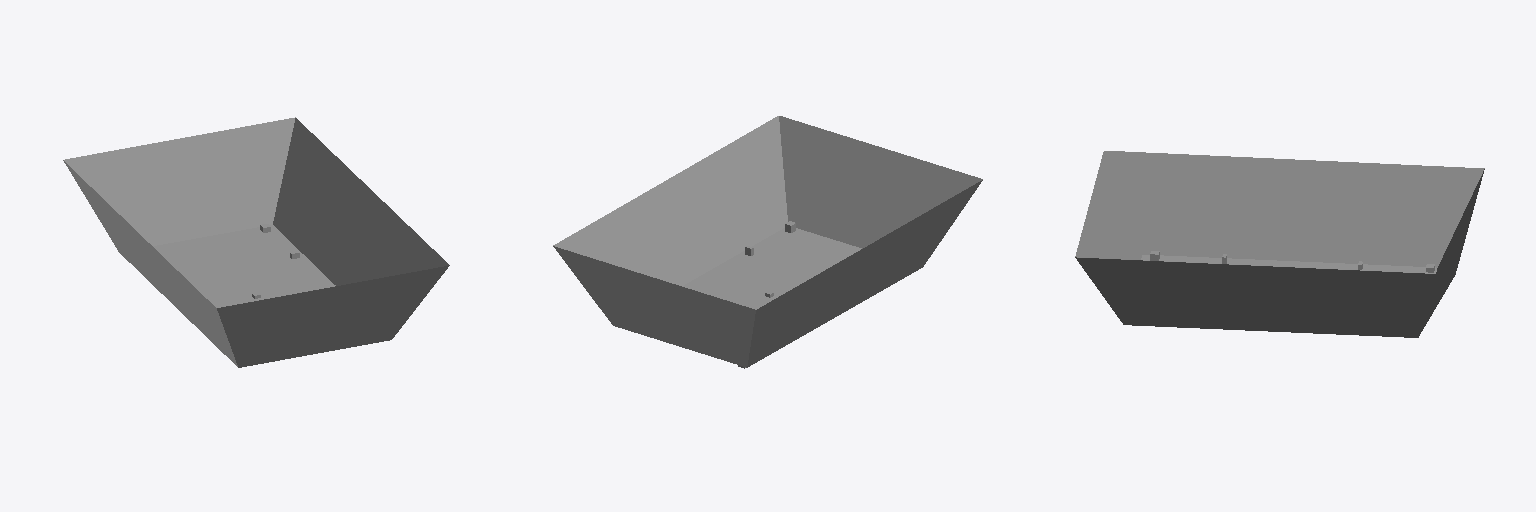
The model's file is VR_Playground.obj.
The picture shows the model from 3 angles: view 1: azimuth 30°, elevation 25°; view 2: azimuth 150°, elevation 25°; view 3: azimuth 270°, elevation 25°; orthographic projection.
Visible parts, largest first — view 1: Arena; view 2: Arena; view 3: Arena.
Part boxes in pixels (x1,y1,x2,y2): Arena: (63,117,449,367); Arena: (553,116,982,367); Arena: (1075,151,1484,337).
Size of the model in its own units: 1.14 by 0.3706 by 1.59.